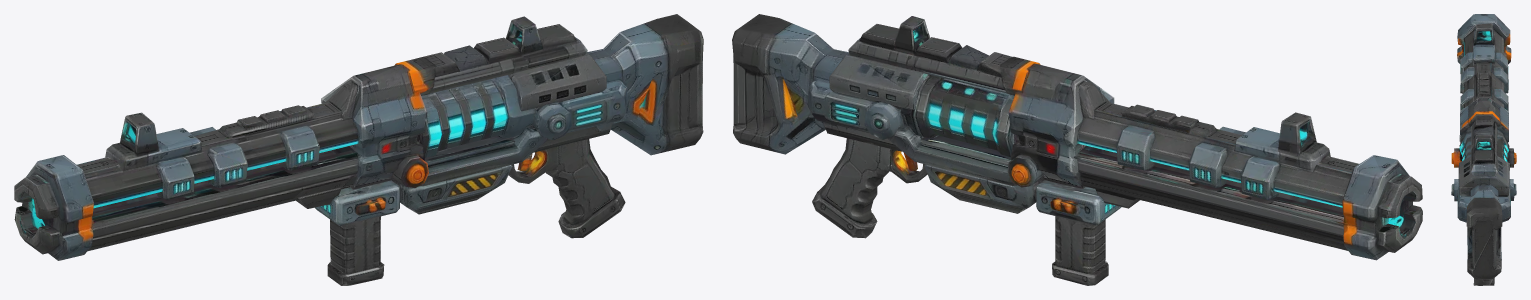
Rendered from laser_gun.glb.
3 views of the same model, side by side, from view 1: azimuth 30°, elevation 25°; view 2: azimuth 150°, elevation 25°; view 3: azimuth 270°, elevation 25° (orthographic). The views are drawn at different scales.
Parts seen in each view (by area): view 1: mesh_node; view 2: mesh_node; view 3: mesh_node.
Part boxes in pixels (x1,y1,x2,y2): mesh_node: [14, 14, 703, 285]; mesh_node: [732, 14, 1422, 285]; mesh_node: [1451, 14, 1516, 285].
Bounding box in the file's own units: 1 × 0.3213 × 0.1411.
1 material, 1 textured.
